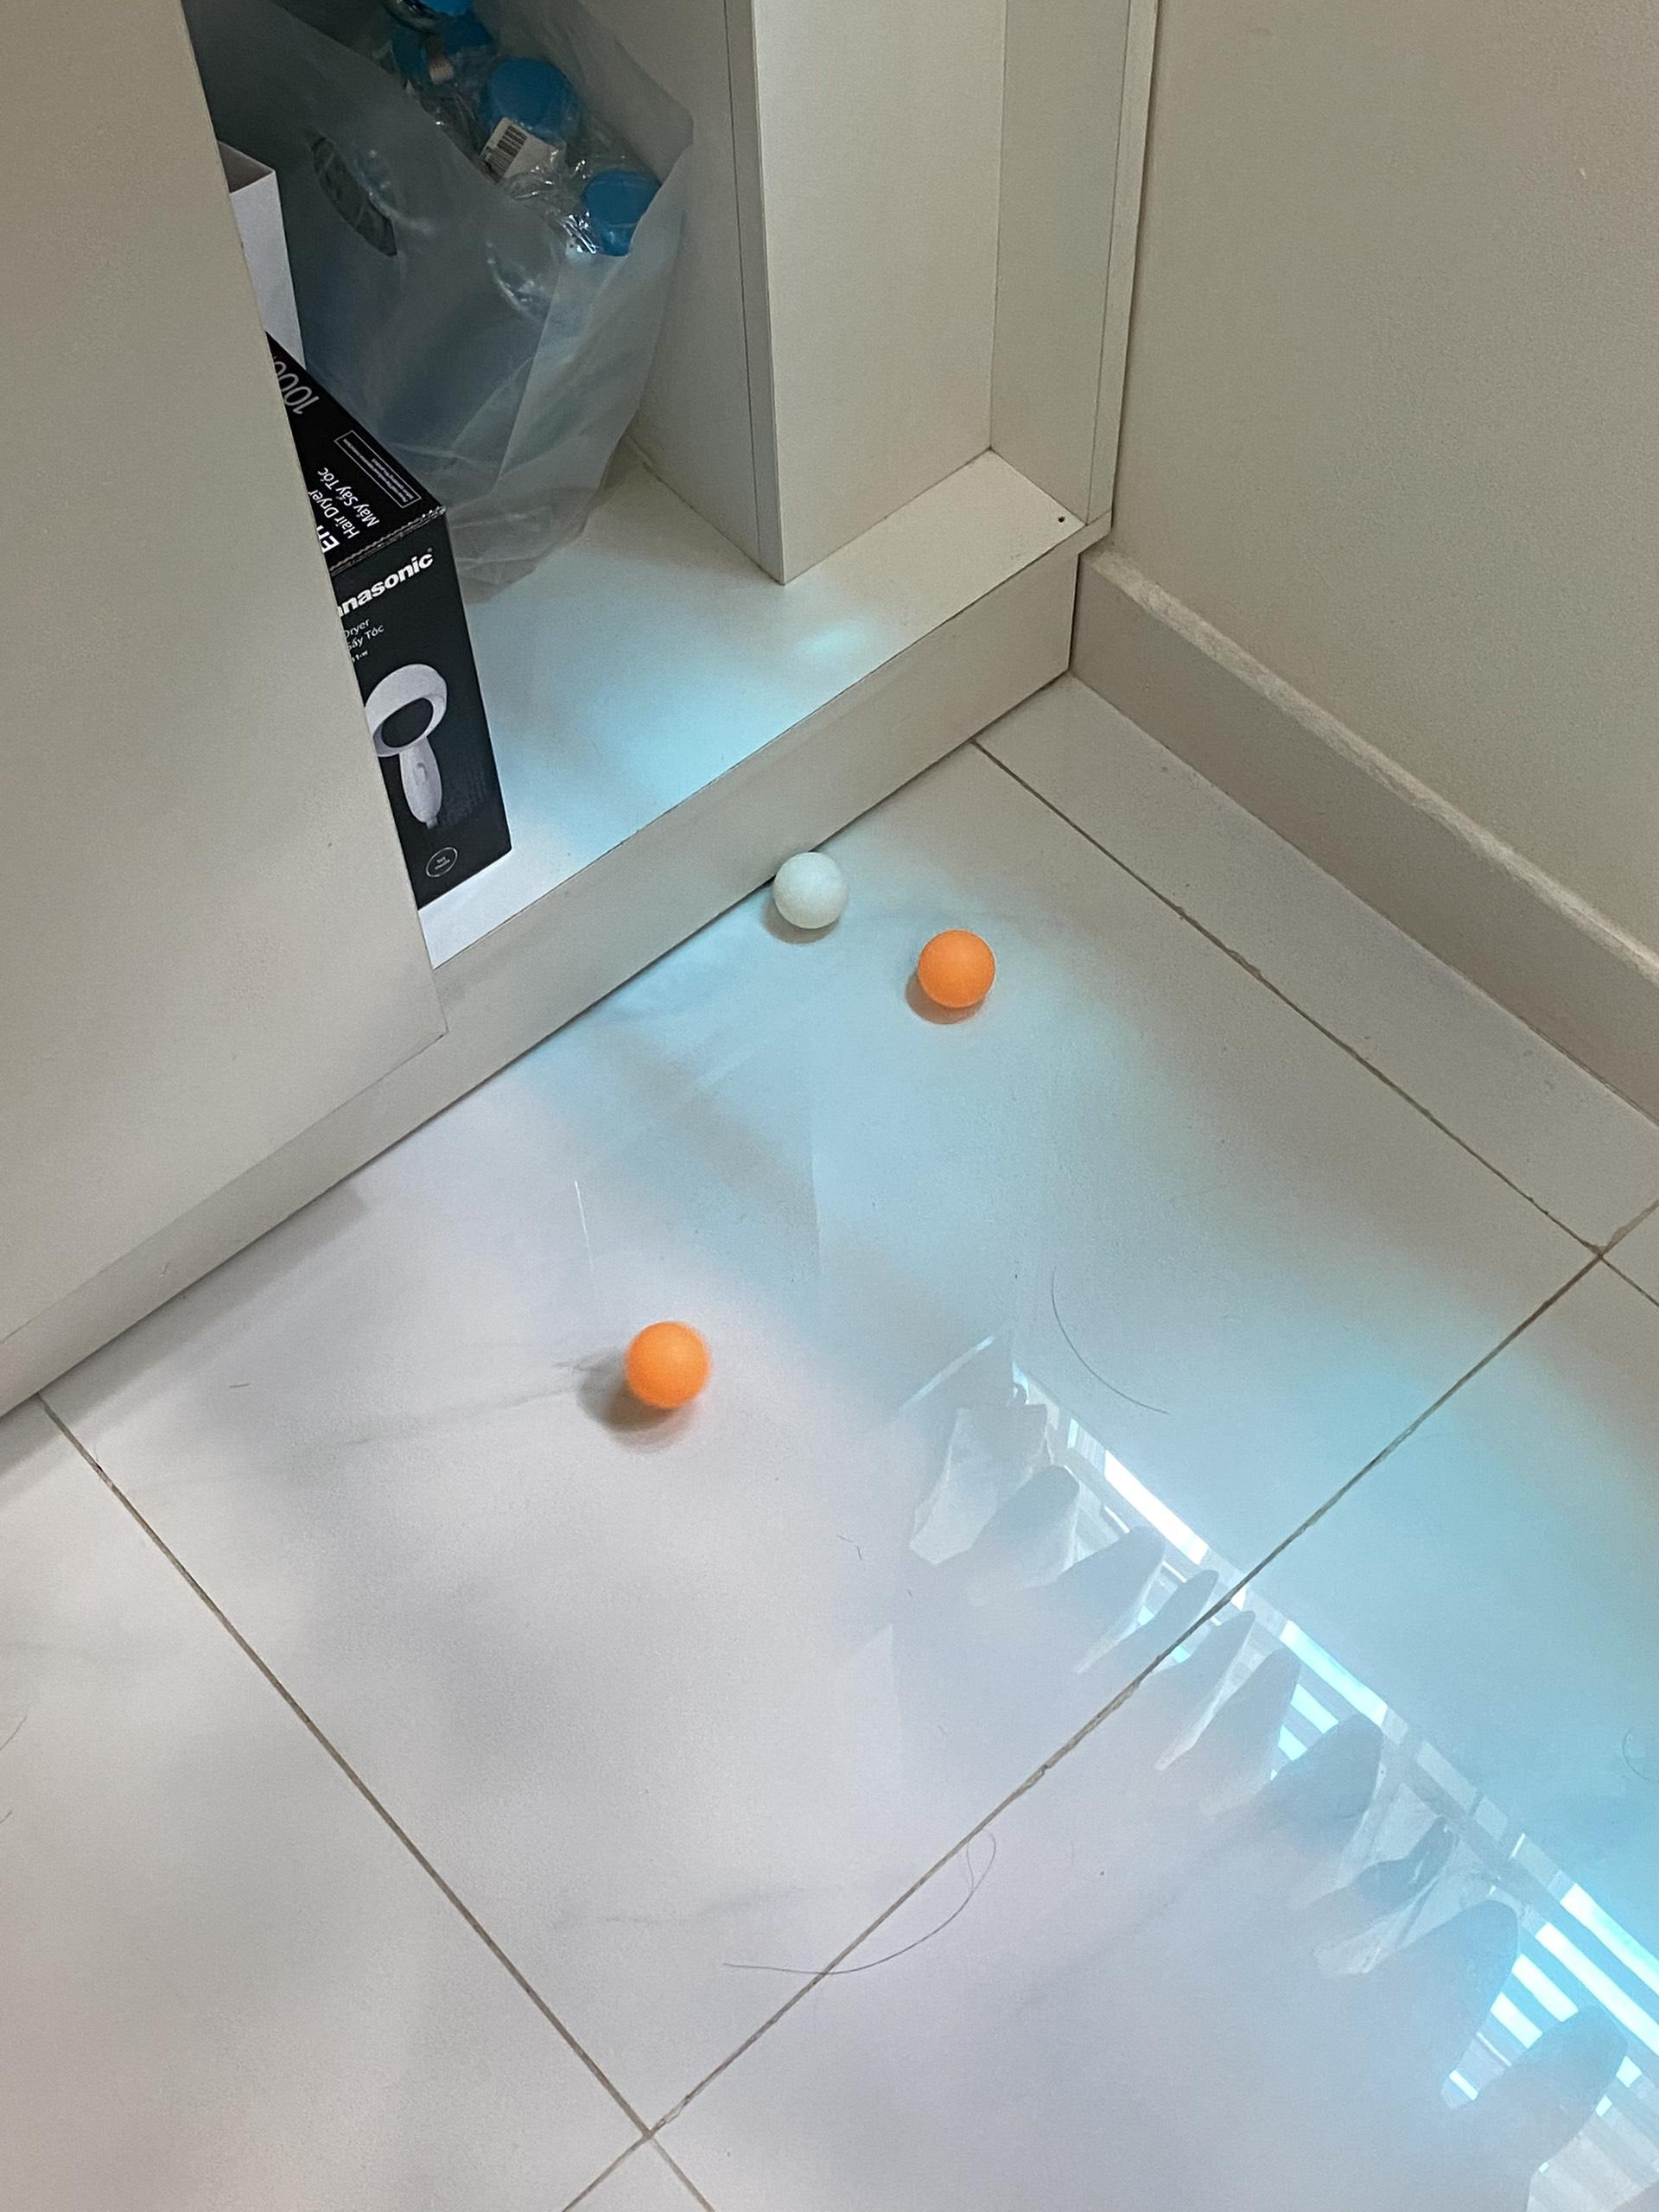oball: (626, 1317, 711, 1418), (918, 925, 993, 1008)
